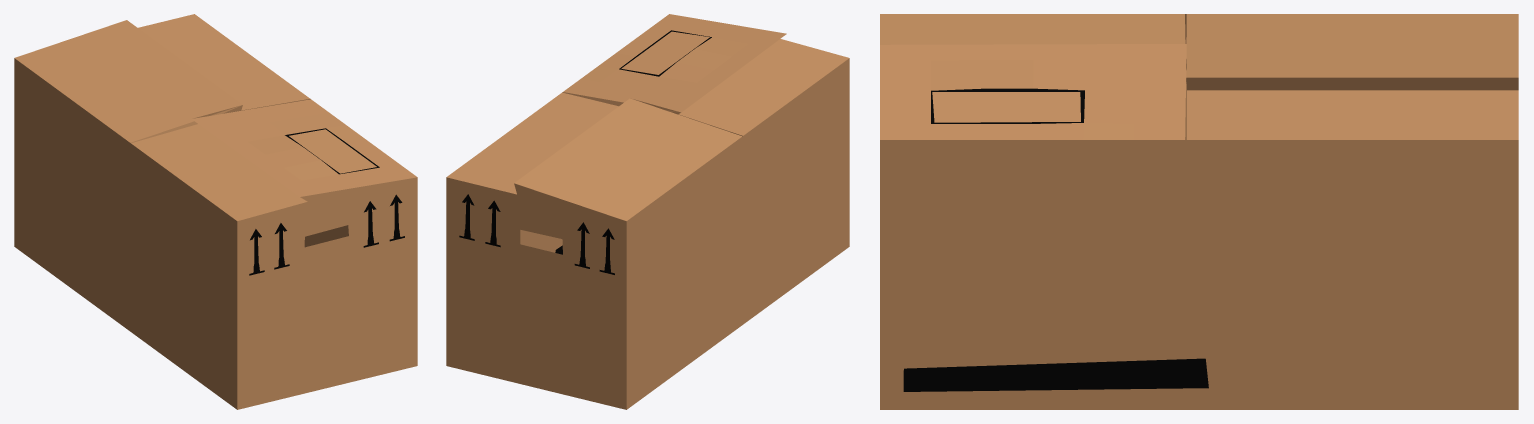
Rendered from umzugskarton.fbx.
3 views of the same model, side by side, from view 1: azimuth 30°, elevation 25°; view 2: azimuth 150°, elevation 25°; view 3: azimuth 270°, elevation 25° (orthographic). The views are drawn at different scales.
Parts seen in each view (by area): view 1: Cube; view 2: Cube; view 3: Cube.
Part boxes in pixels (bbox=[...]): Cube: bbox=[14, 14, 417, 409]; Cube: bbox=[446, 14, 849, 409]; Cube: bbox=[880, 14, 1518, 409].
Bounding box in the file's own units: 140 × 148 × 301.
